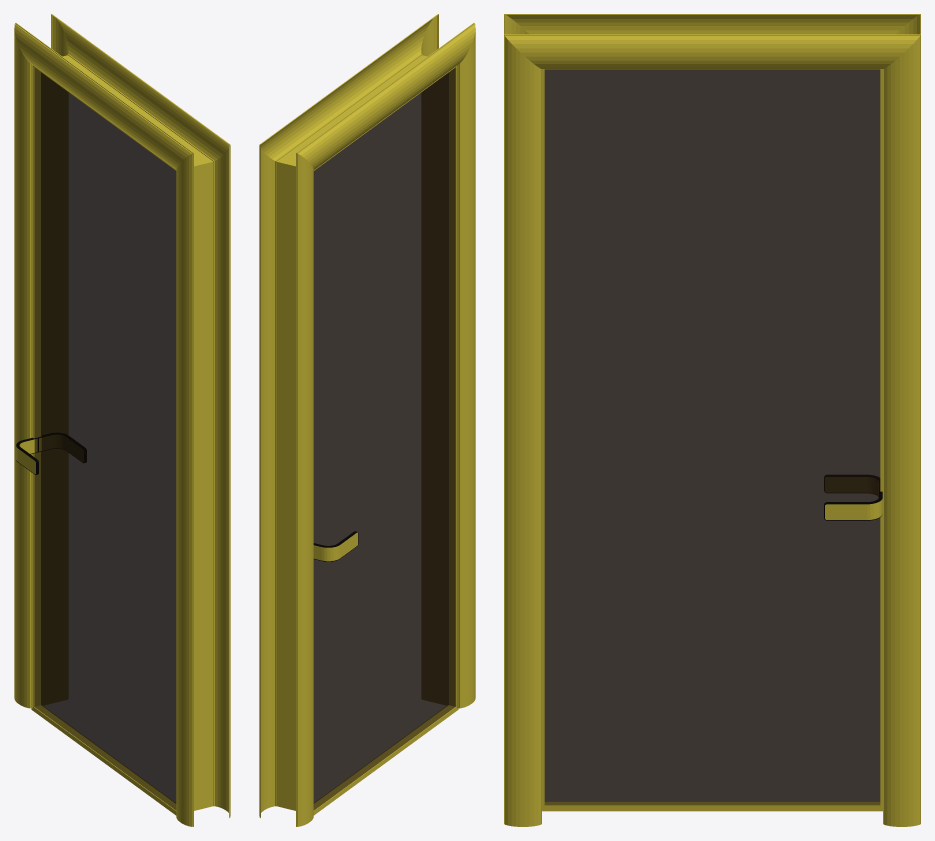
The model's file is door.FBX.
3 renders of one model, left to right at view 1: azimuth 30°, elevation 25°; view 2: azimuth 150°, elevation 25°; view 3: azimuth 270°, elevation 25°, orthographic. The views are drawn at different scales.
Visible parts, largest first — view 1: Rectangle5, Nalichniki, Rectangle0, Ruchka; view 2: Rectangle5, Nalichniki, Rectangle0, Ruchka; view 3: Rectangle5, Nalichniki, Rectangle0, Ruchka.
Boxes of the visible parts, x1,y1,x2,y2 form: Rectangle5: [34, 67, 176, 810]; Nalichniki: [14, 14, 230, 826]; Rectangle0: [31, 65, 176, 815]; Ruchka: [16, 433, 86, 474]; Rectangle5: [313, 67, 455, 810]; Nalichniki: [259, 14, 475, 826]; Rectangle0: [313, 65, 458, 815]; Ruchka: [313, 531, 358, 561]; Rectangle5: [544, 69, 880, 805]; Nalichniki: [504, 14, 920, 826]; Rectangle0: [542, 69, 882, 811]; Ruchka: [824, 475, 882, 520].
Size of the model in its own units: 86.79 by 908 by 433.
